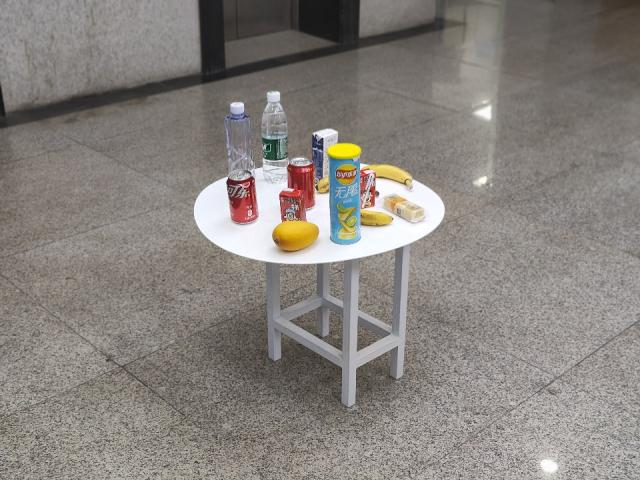Canned_drinks: (229, 170, 260, 226), (291, 160, 312, 188)
bottle: (262, 93, 289, 182), (227, 105, 254, 168)
cylinder: (328, 145, 362, 239)
drink_box: (280, 187, 304, 219), (359, 170, 378, 208), (314, 131, 329, 178)
